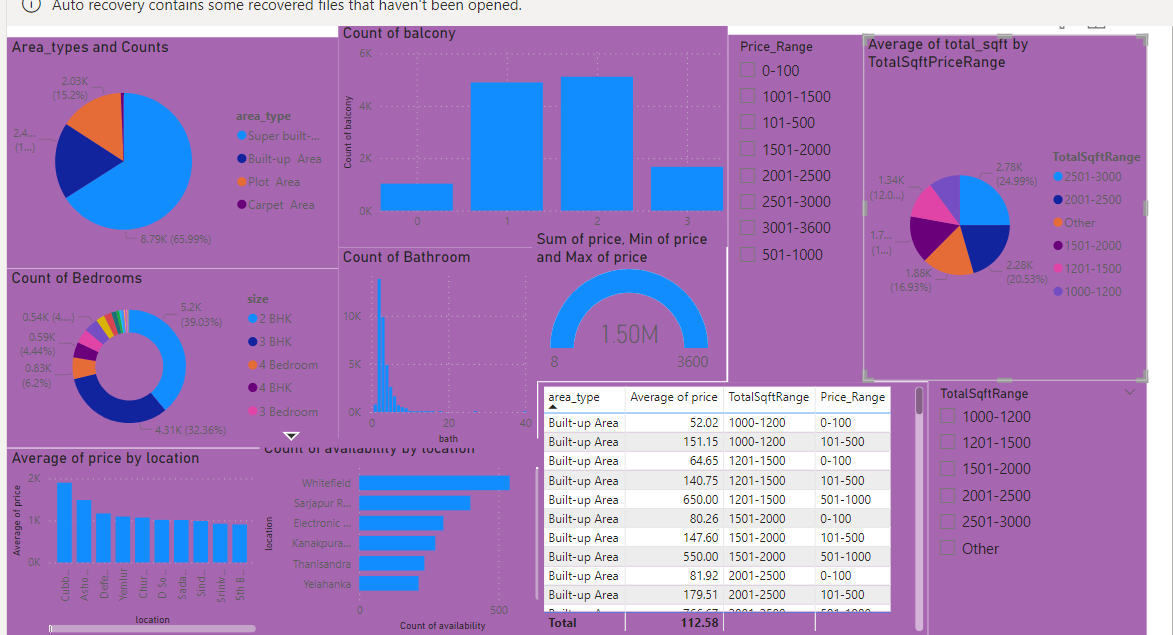

Layout of this report page (visuals, bound fields, positions):
{"tool":"powerbi","page":{"name":"SUMMARY","canvas":[1280,720],"ordinal":0},"visuals":[{"type":"clusteredBarChart","fields":{"Category":["bengaluru_house_prices.location"],"Y":["CountNonNull(bengaluru_house_prices.availability)"]},"box":[278,503.2,316.4,216.7],"z":0},{"type":"lineStackedColumnComboChart","fields":{"Category":["bengaluru_house_prices.location"],"Y":["Avg(bengaluru_house_prices.price)"]},"box":[0,513.2,278.6,207.2],"z":1},{"type":"pieChart","title":"Area_types and Counts","fields":{"Y":["CountNonNull(bengaluru_house_prices.area_type)"],"Category":["bengaluru_house_prices.area_type"]},"box":[0,61.7,363.6,253.9],"z":2},{"type":"donutChart","title":"Count of Bedrooms","fields":{"Y":["CountNonNull(bengaluru_house_prices.size)"],"Category":["bengaluru_house_prices.size"]},"box":[0,326,364,187],"z":3},{"type":"columnChart","title":"Count of balcony ","fields":{"Category":["bengaluru_house_prices.balcony"],"Y":["CountNonNull(bengaluru_house_prices.balcony)"]},"box":[363.6,46.7,428.1,245.6],"z":4},{"type":"columnChart","title":"Count of Bathroom","fields":{"Category":["bengaluru_house_prices.bath"],"Y":["Sum(bengaluru_house_prices.bath)"]},"box":[352.1,326.4,230.9,148.2],"z":5},{"type":"tableEx","fields":{"Values":["bengaluru_house_prices.area_type","Avg(bengaluru_house_prices.price)","bengaluru_house_prices.TotalSqftRange","bengaluru_house_prices.Price_Range"]},"box":[583.6,440.9,428.1,278.3],"z":6},{"type":"actionButton","box":[0,0,100,40],"z":7},{"type":"gauge","fields":{"Y":["Sum(bengaluru_house_prices.price)"],"MinValue":["Min(bengaluru_house_prices.price)"],"MaxValue":["Max(bengaluru_house_prices.price)"]},"box":[577.3,273.7,213.8,166.8],"z":8},{"type":"slicer","fields":{"Values":["bengaluru_house_prices.Price_Range"]},"box":[792,58.5,148.4,382.4],"z":9},{"type":"slicer","fields":{"Values":["bengaluru_house_prices.TotalSqftRange"]},"box":[1011.7,401,241.2,318.2],"z":10},{"type":"pieChart","title":"Average of total_sqft by TotalSqftPriceRange","fields":{"Y":["Avg(bengaluru_house_prices.total_sqft)"],"Category":["bengaluru_house_prices.TotalSqftRange"]},"box":[940.4,58.5,312.5,342.5],"z":11}]}

Visuals, with their boxes in screenshot pixels (x1, y1, x2, y2):
clusteredBarChart - bengaluru_house_prices.location x CountNonNull(bengaluru_house_prices.availability): x1=263, y1=436, x2=549, y2=631
lineStackedColumnComboChart - bengaluru_house_prices.location x Avg(bengaluru_house_prices.price): x1=12, y1=445, x2=264, y2=632
"Area_types and Counts" pieChart: x1=12, y1=37, x2=340, y2=266
"Count of Bedrooms" donutChart: x1=12, y1=276, x2=341, y2=445
"Count of balcony " columnChart: x1=340, y1=24, x2=727, y2=245
"Count of Bathroom" columnChart: x1=330, y1=276, x2=538, y2=410
tableEx - bengaluru_house_prices.area_type x Avg(bengaluru_house_prices.price): x1=539, y1=379, x2=925, y2=631
actionButton: x1=12, y1=0, x2=102, y2=18
gauge - Sum(bengaluru_house_prices.price) x Min(bengaluru_house_prices.price): x1=533, y1=229, x2=726, y2=379
slicer - bengaluru_house_prices.Price_Range: x1=727, y1=34, x2=861, y2=379
slicer - bengaluru_house_prices.TotalSqftRange: x1=925, y1=343, x2=1143, y2=631
"Average of total_sqft by TotalSqftPriceRange" pieChart: x1=861, y1=34, x2=1143, y2=343
